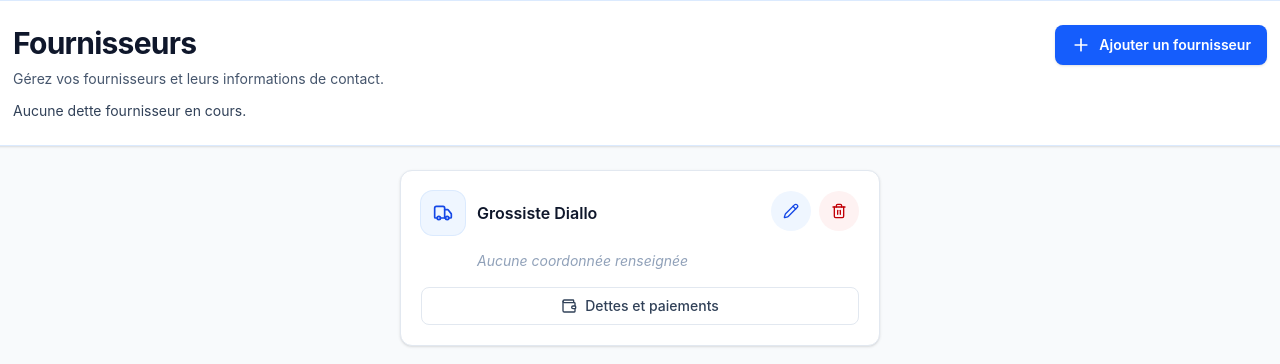
Fournisseurs : création et suppression refusées après l’expiration › suppression : message en haut, sans alert(), liste non rechargée
The image size is (1280, 364).
Click the button named "Supprimer le fournisseur Grossiste Diallo". click: (839, 211)
box: [819,191,859,231]
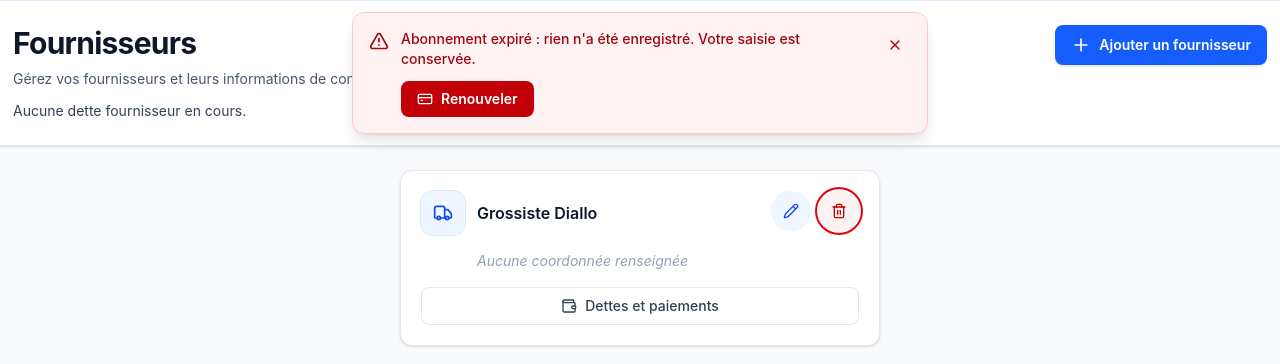
Expected: the heading "Grossiste Diallo" is shown, [477,201,597,225]
Result: the message shows "Abonnement expiré : rien n'a été enregistré. Votre saisie est conservée." at [401,30,800,67]
